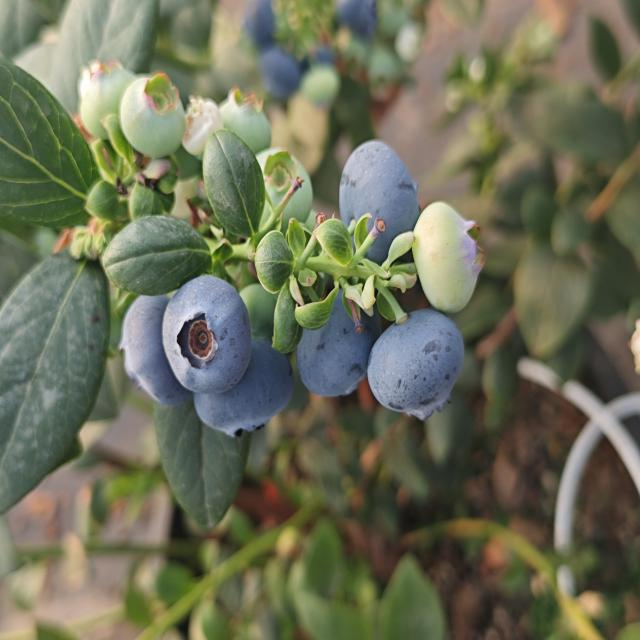ripe: (289, 280, 383, 406), (159, 272, 253, 397), (365, 307, 466, 423), (120, 276, 206, 410), (336, 137, 421, 270), (191, 336, 288, 439), (246, 0, 298, 96), (319, 0, 386, 40)
